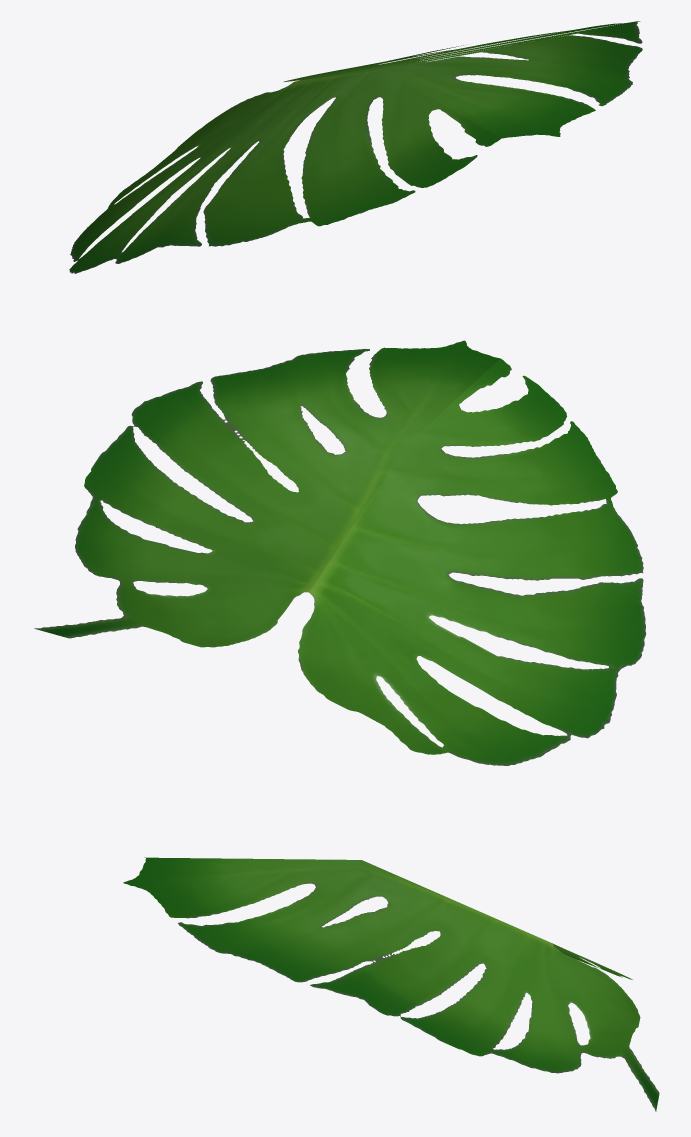
The model's file is Jungle_plant_08.fbx.
3 renders of one model, top to bottom at view 1: azimuth 30°, elevation 25°; view 2: azimuth 150°, elevation 25°; view 3: azimuth 270°, elevation 25°, orthographic. The views are drawn at different scales.
Visible parts, largest first — view 1: Jungle_plant_08; view 2: Jungle_plant_08; view 3: Jungle_plant_08.
Boxes of the visible parts, x1,y1,x2,y2 form: Jungle_plant_08: [69, 21, 642, 273]; Jungle_plant_08: [34, 340, 646, 765]; Jungle_plant_08: [123, 857, 659, 1111].
Size of the model in its own units: 104 by 43.83 by 105.
